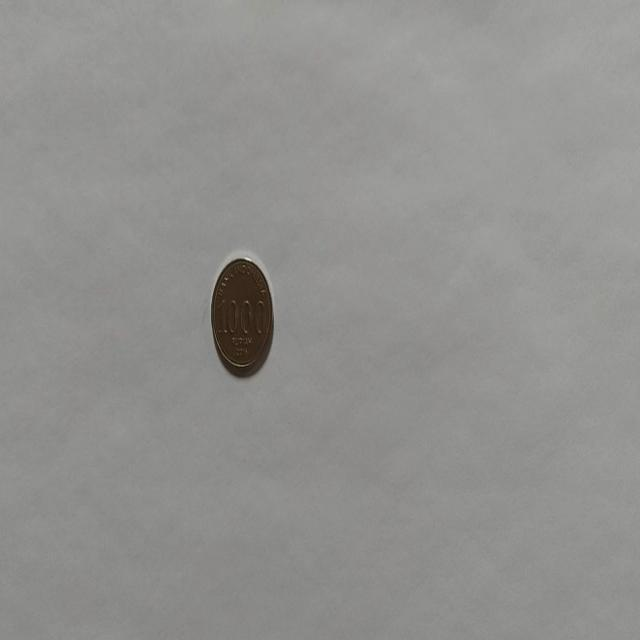seribu rupiah koin: (210, 254, 274, 377)
